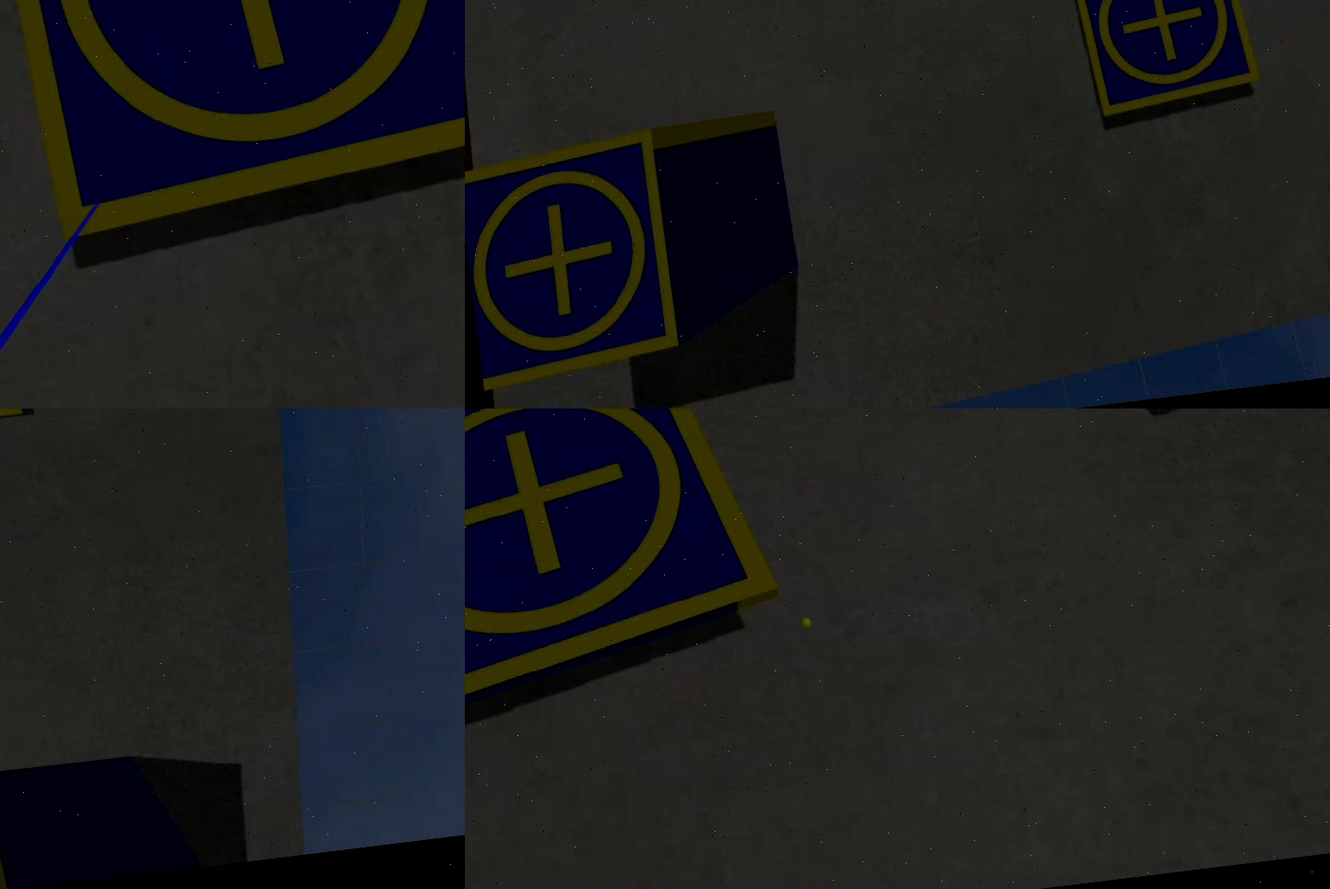small_base: (1, 1, 465, 253), (465, 409, 794, 743), (465, 127, 686, 391), (1065, 1, 1265, 123)
